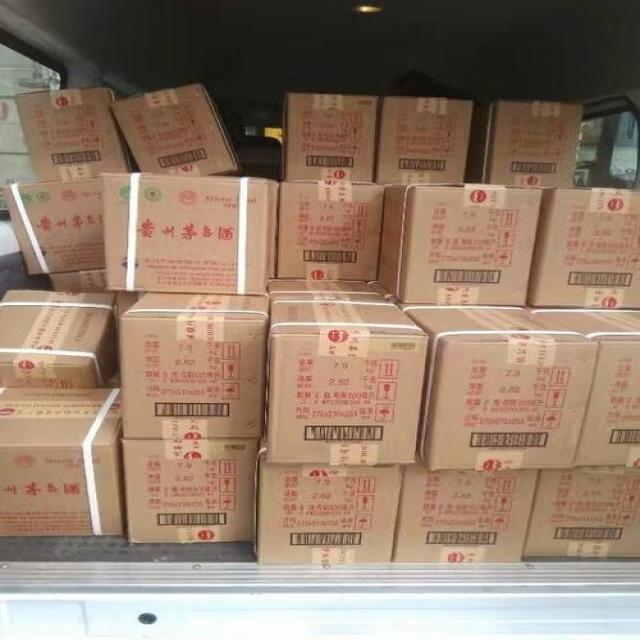Carton: (274, 182, 639, 344), (10, 85, 268, 292), (259, 465, 535, 563), (122, 292, 265, 434), (429, 344, 596, 465), (265, 339, 425, 464), (0, 388, 122, 534), (123, 440, 255, 539), (529, 465, 639, 558), (271, 279, 428, 341), (4, 178, 104, 275), (0, 288, 114, 367), (287, 93, 376, 182), (379, 99, 467, 185), (492, 101, 579, 185)
